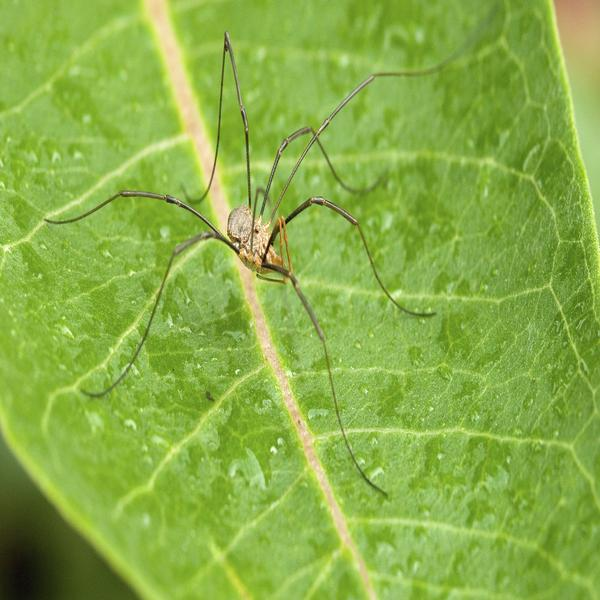Daddy Long Legs Spider: (44, 32, 433, 484)
